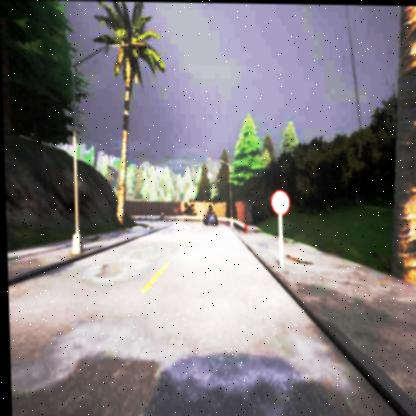vehicle: (200, 211, 216, 226)
